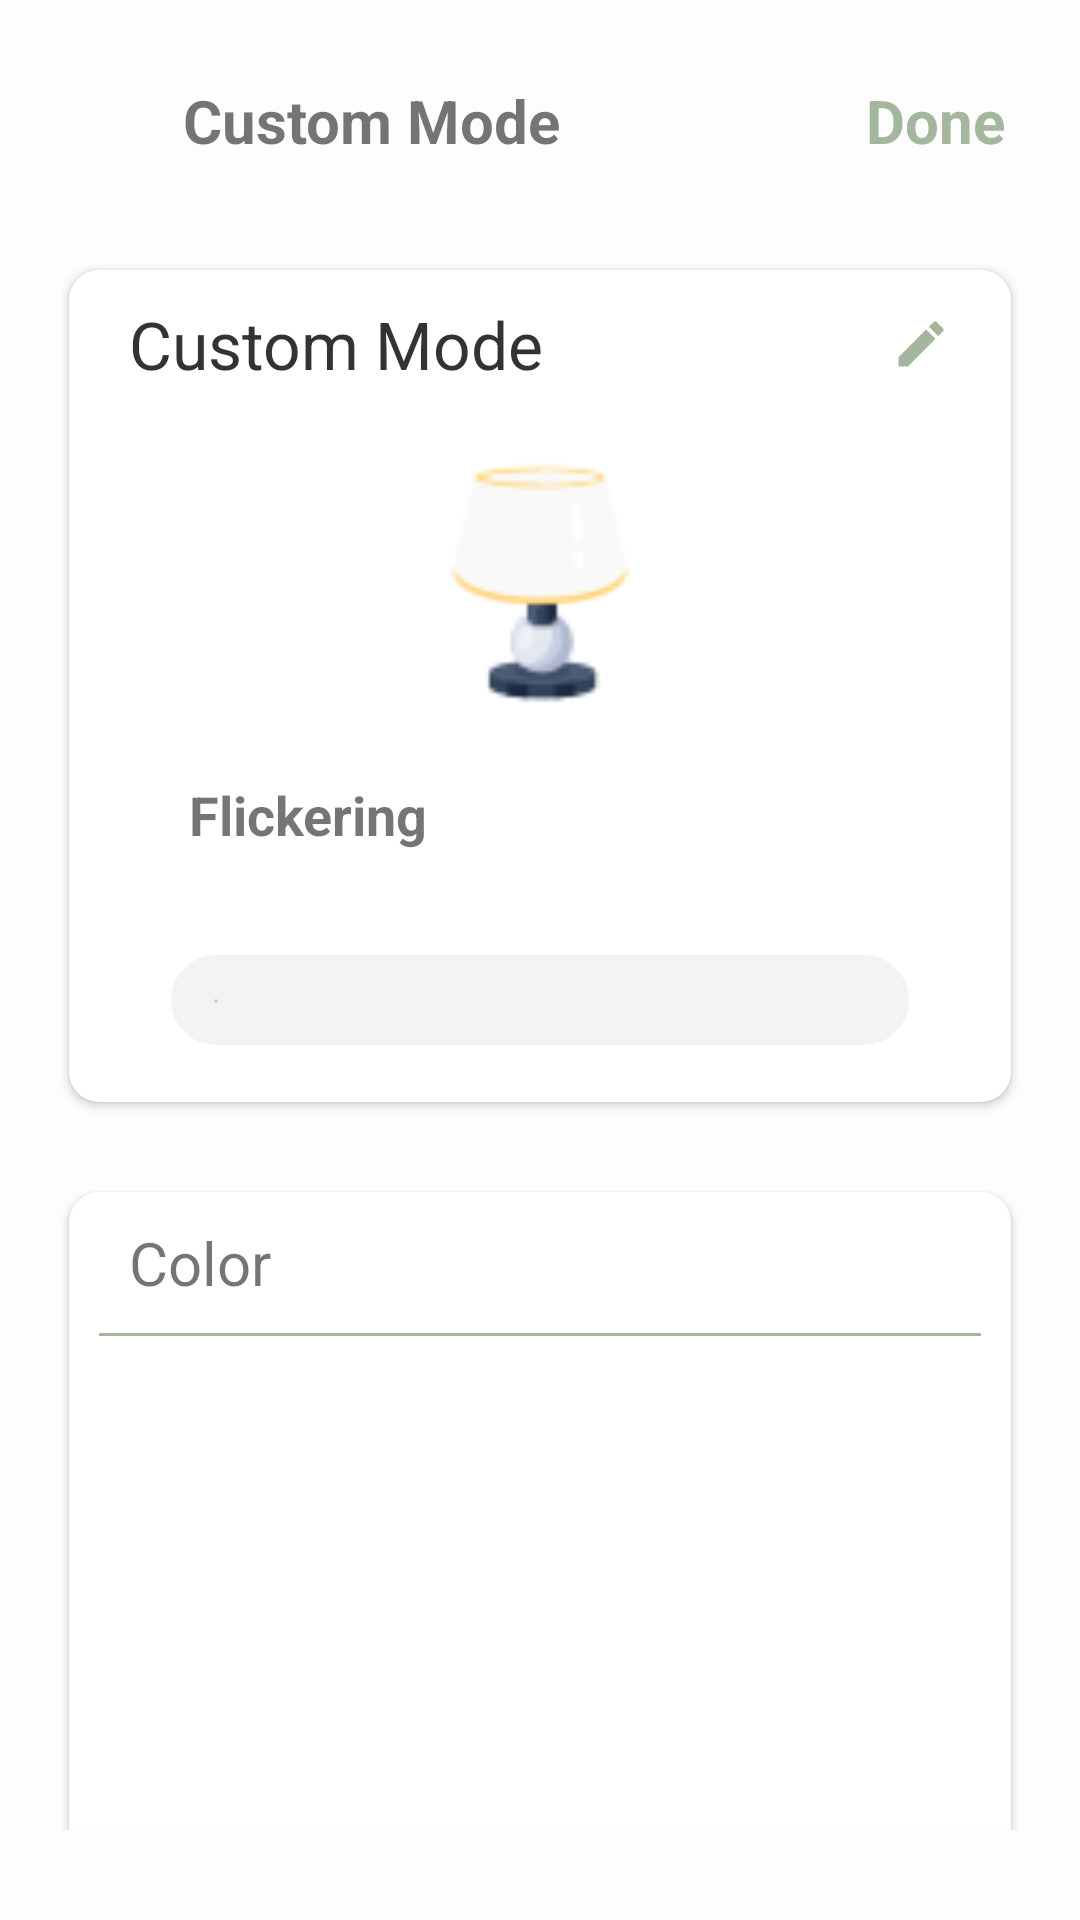

Screen size 1080px x 1920px. Icon name, then its box in pixels as {"left": x1, "top": y1, "right": x2, "bottom": y2}:
edit: {"left": 898, "top": 321, "right": 944, "bottom": 367}
lamp: {"left": 451, "top": 465, "right": 629, "bottom": 702}
